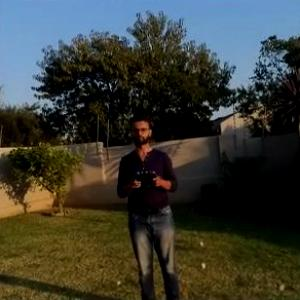follow: (108, 108, 189, 299)
